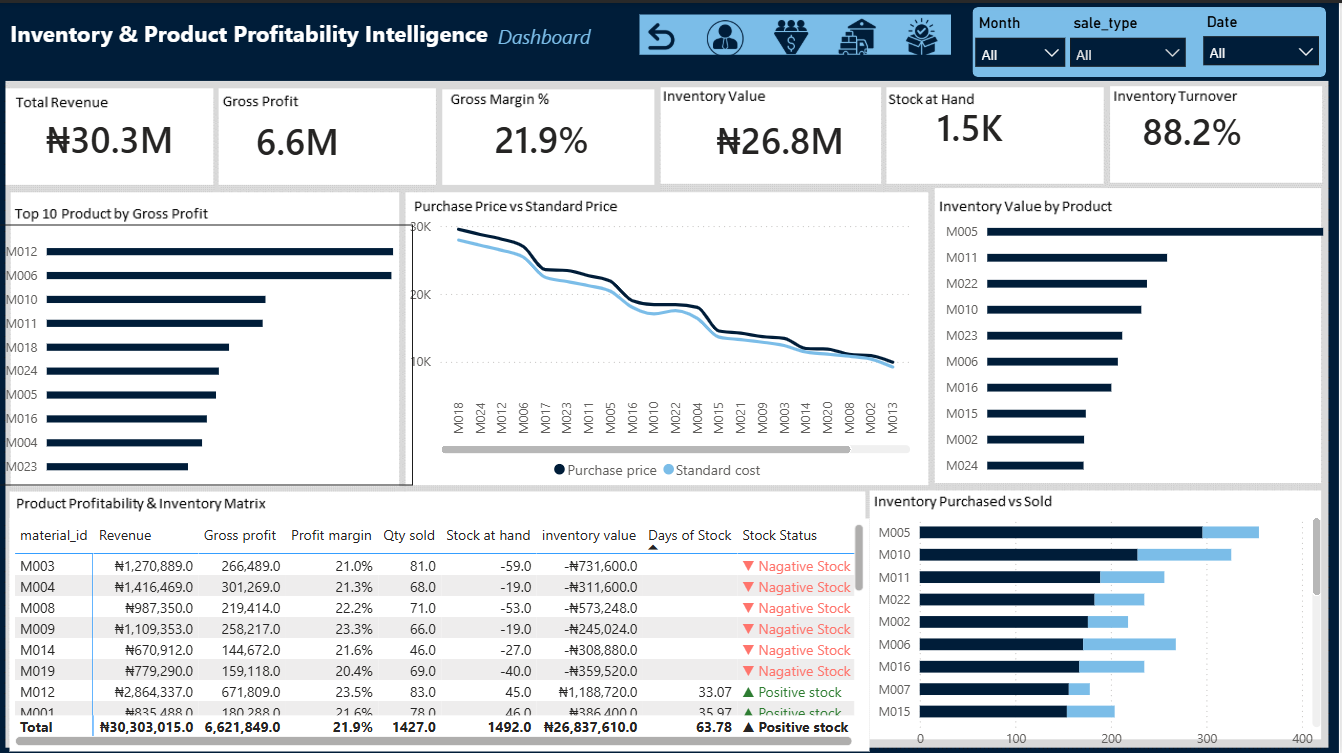

This screenshot's page, from the dashboard's own definition file:
{"tool":"powerbi","page":{"name":"inventory & Product Profitability","canvas":[1280,720],"ordinal":4},"visuals":[{"type":"lineChart","fields":{"Y":["Measure.weighted avg purchase price","Measure.Weighted avg standard cost"],"Category":["materials_corrected.material_id"]},"box":[388.3,200,486.7,265],"z":0},{"type":"pivotTable","fields":{"Rows":["materials_corrected.material_id"],"Values":["Measure.Total Revenue","Measure.Gross profit","Measure.Gross profit margin","Measure.Quantity sold","Measure.Stock at hand","Measure.inventory value","Measure.Days of Stock","Measure.Stock Status"]},"box":[13,492.8,806.8,221.2],"z":1000},{"type":"barChart","fields":{"Y":["Measure.Gross profit"],"Category":["materials_corrected.material_id"]},"box":[0,213.3,396.7,248.3],"z":2000},{"type":"barChart","fields":{"Category":["materials_corrected.material_id"],"Y":["Measure.inventory value"]},"box":[896.2,193.6,383.9,268.4],"z":3000},{"type":"barChart","fields":{"Category":["materials_corrected.material_id"],"Y":["Measure.Purchased Quantity","Measure.Quantity sold"]},"box":[834.2,473.4,445.2,241.1],"z":4000},{"type":"cardVisual","fields":{"Data":["Measure.Total Revenue"]},"box":[18.3,88.3,200,81.7],"z":5000},{"type":"cardVisual","fields":{"Data":["Measure.Gross profit margin"]},"box":[445.2,88,177.7,82.7],"z":6000},{"type":"cardVisual","fields":{"Data":["Measure.inventory value"]},"box":[656.7,90,190,81.7],"z":7000},{"type":"cardVisual","fields":{"Data":["Measure.Stock at hand"]},"box":[867.6,77.4,177.7,82.7],"z":8000},{"type":"cardVisual","fields":{"Data":["Measure.Inventory turnover"]},"box":[1063.3,81.7,216.7,81.7],"z":9000},{"type":"cardVisual","fields":{"Data":["Measure.Gross profit"]},"box":[218.2,89.8,177.7,82.7],"z":10000},{"type":"textbox","box":[8.3,10,510,76.7],"z":11000},{"type":"textbox","box":[473.3,15,128.3,71.7],"z":12000},{"type":"shape","box":[930,5,336.7,66.7],"z":13000},{"type":"slicer","fields":{"Values":["Date.Date"]},"box":[1140,5,130,55],"z":14000},{"type":"slicer","fields":{"Values":["sales_update.sale_type"]},"box":[1013.3,6.7,130,66.7],"z":15000},{"type":"shape","box":[613.3,13.3,296.7,38.3],"z":16000},{"type":"image","box":[656.6,16.6,74.8,37.4],"z":17000},{"type":"image","box":[720,15,74.8,37.4],"z":18000},{"type":"image","box":[783.5,15,74.8,37.4],"z":19000},{"type":"image","box":[843.7,15,74.8,37.4],"z":20000},{"type":"image","box":[591.6,15,84.6,35.8],"z":21000},{"type":"slicer","fields":{"Values":["Date.Month Number"]},"box":[923.3,6.7,105,55],"z":22000}]}

Visuals, with their boxes in screenshot pixels (x1, y1, x2, y2), scaled from the page's 1280x720 canvas onto the 1342x753 screenshot:
lineChart - Measure.weighted avg purchase price x Measure.Weighted avg standard cost: 407,209,917,486
pivotTable - materials_corrected.material_id x Measure.Total Revenue: 14,515,860,747
barChart - Measure.Gross profit x materials_corrected.material_id: 0,223,416,483
barChart - materials_corrected.material_id x Measure.inventory value: 940,202,1341,483
barChart - materials_corrected.material_id x Measure.Purchased Quantity: 875,495,1341,747
cardVisual - Measure.Total Revenue: 19,92,229,178
cardVisual - Measure.Gross profit margin: 467,92,653,179
cardVisual - Measure.inventory value: 689,94,888,180
cardVisual - Measure.Stock at hand: 910,81,1096,167
cardVisual - Measure.Inventory turnover: 1115,85,1341,171
cardVisual - Measure.Gross profit: 229,94,415,180
textbox: 9,10,543,91
textbox: 496,16,631,91
shape: 975,5,1328,75
slicer - Date.Date: 1195,5,1332,63
slicer - sales_update.sale_type: 1062,7,1199,77
shape: 643,14,954,54
image: 688,17,767,56
image: 755,16,833,55
image: 821,16,900,55
image: 885,16,963,55
image: 620,16,709,53
slicer - Date.Month Number: 968,7,1078,65
